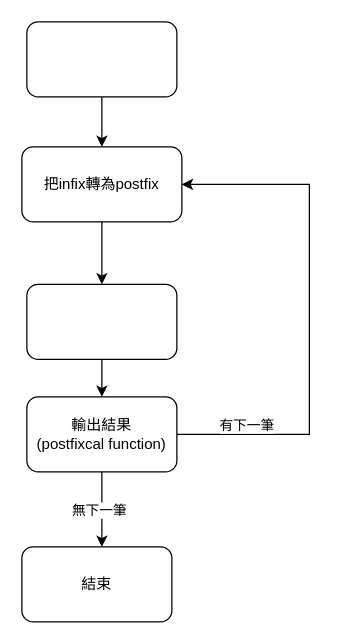
Image size: 341x644. Some labels were removed from this diagram. Here are the shapes that lost their labels. From the top down, the centre of each, then its label:
At (101,59): "輸入input".
At (101,321): "計算postfix的內容 (In2Post function)".
